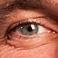eye: (21, 24, 38, 35)
